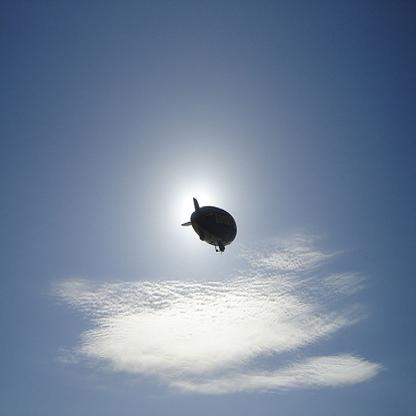Airship: (179, 194, 247, 264)
